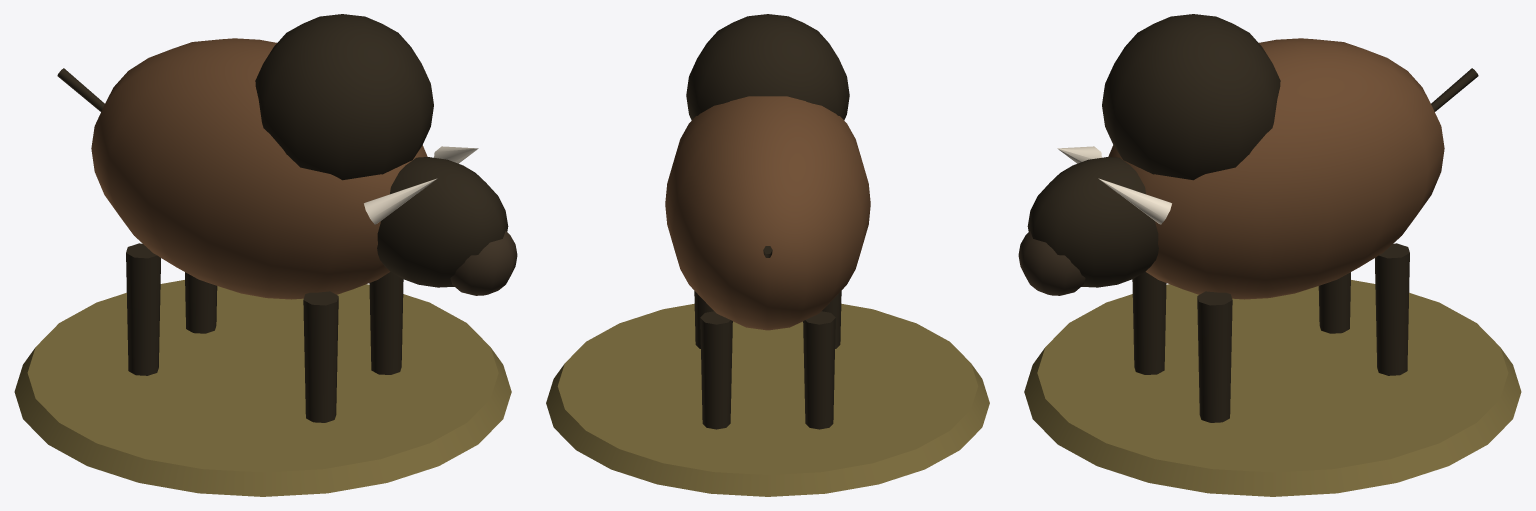
File: bison.glb
3 renders of one model, left to right at view 1: azimuth 30°, elevation 25°; view 2: azimuth 150°, elevation 25°; view 3: azimuth 270°, elevation 25°, orthographic. The views are drawn at different scales.
Size of the model in its own units: 1.9 by 1.64 by 1.92.
